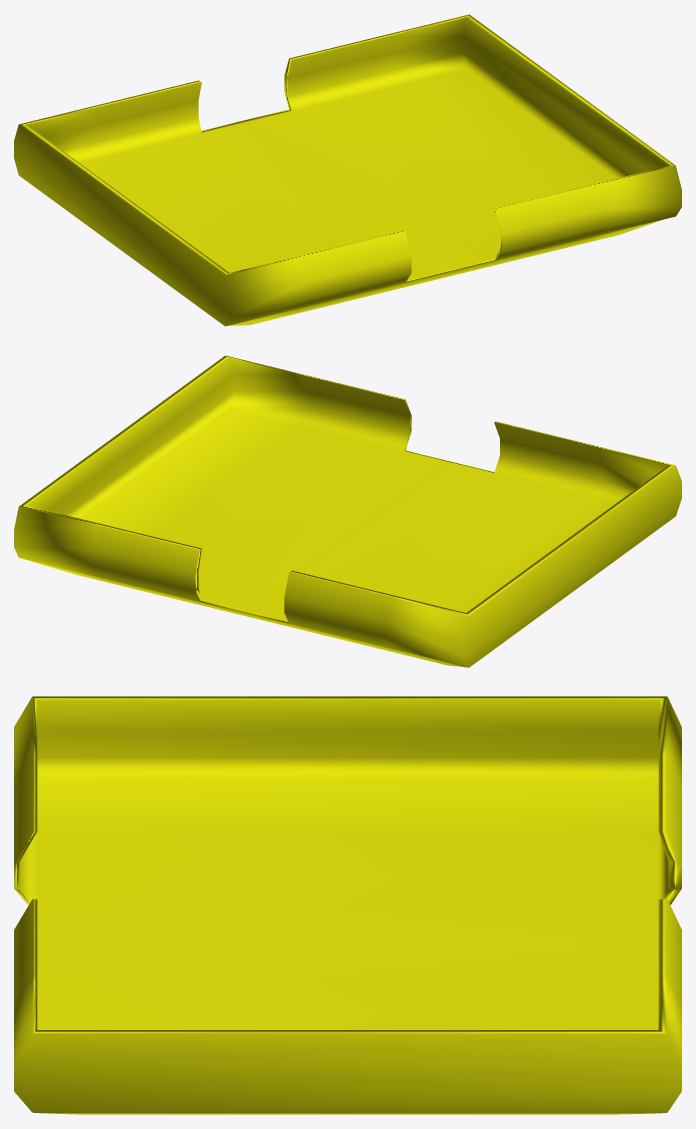
The model's file is mdl_Corredor_Soporte_pequeno.fbx.
The picture shows the model from 3 angles, top to bottom: view 1: azimuth 30°, elevation 25°; view 2: azimuth 150°, elevation 25°; view 3: azimuth 270°, elevation 25°; orthographic projection. The views are drawn at different scales.
Parts seen in each view (by area): view 1: mdl_Corredor_Soporte_pequeno; view 2: mdl_Corredor_Soporte_pequeno; view 3: mdl_Corredor_Soporte_pequeno.
Boxes of the visible parts, bbox=[...] form: mdl_Corredor_Soporte_pequeno: bbox=[14, 14, 681, 326]; mdl_Corredor_Soporte_pequeno: bbox=[14, 355, 681, 667]; mdl_Corredor_Soporte_pequeno: bbox=[14, 696, 681, 1114].
Bounding box in the file's own units: 15.34 × 2.34 × 12.8.
